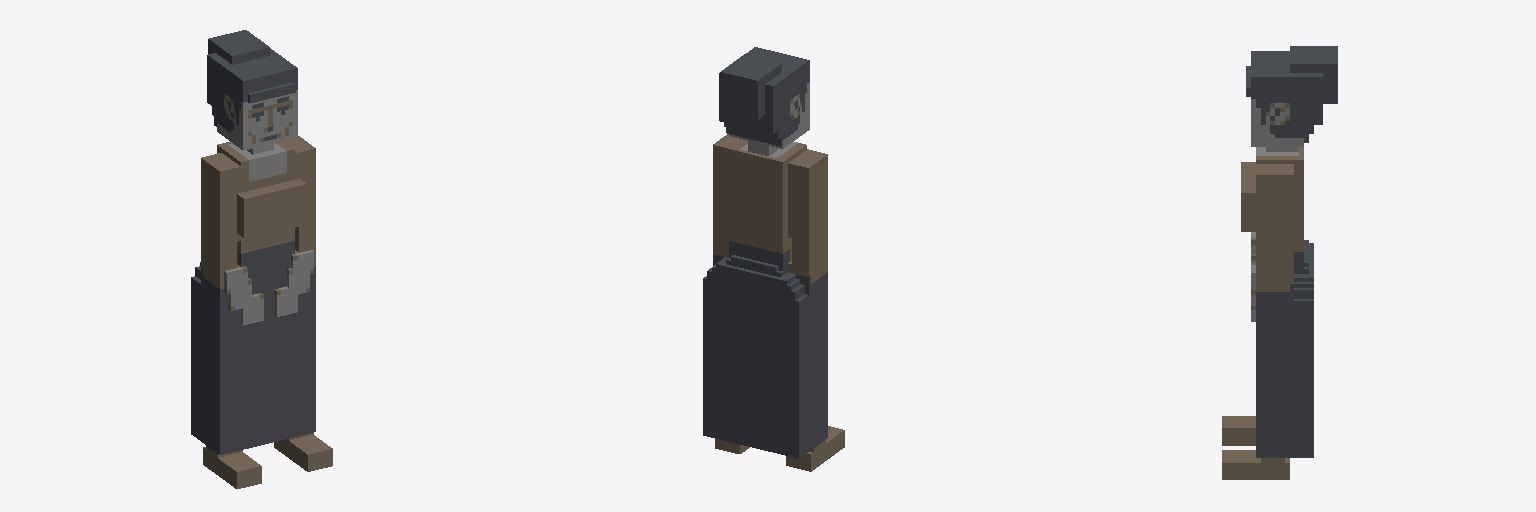
3 renders of one model, left to right at view 1: azimuth 30°, elevation 25°; view 2: azimuth 150°, elevation 25°; view 3: azimuth 270°, elevation 25°, orthographic.
Size of the model in its own units: 23 by 92 by 24.
Materials: 1 (1 with a texture image).